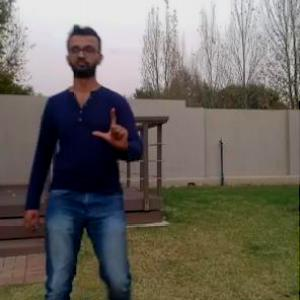land_hand: (86, 103, 134, 157)
